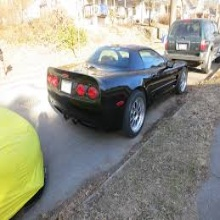no damage: (46, 42, 188, 137), (165, 19, 220, 74)
